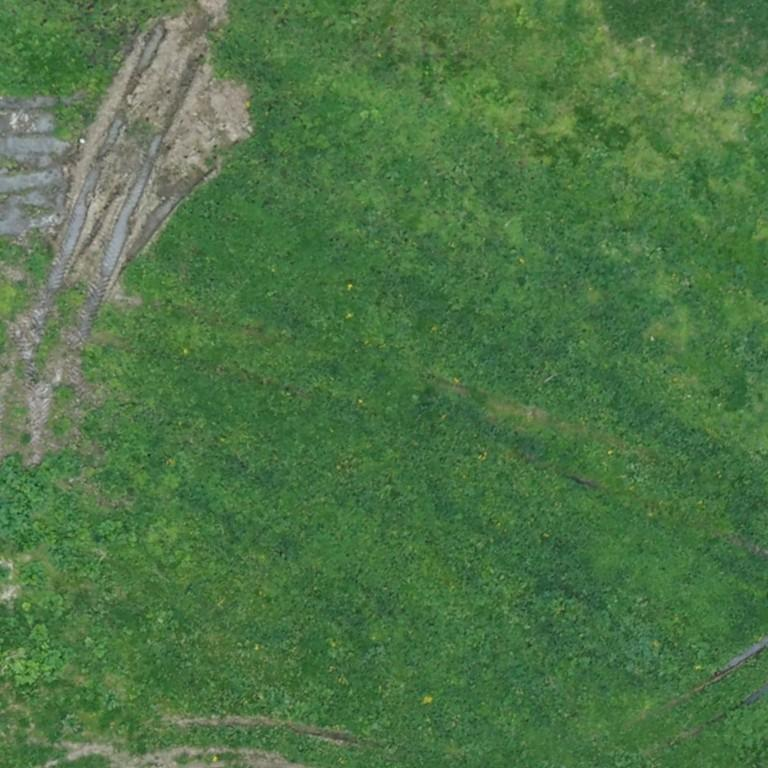hogweed: (0, 458, 53, 551), (6, 626, 70, 685)
